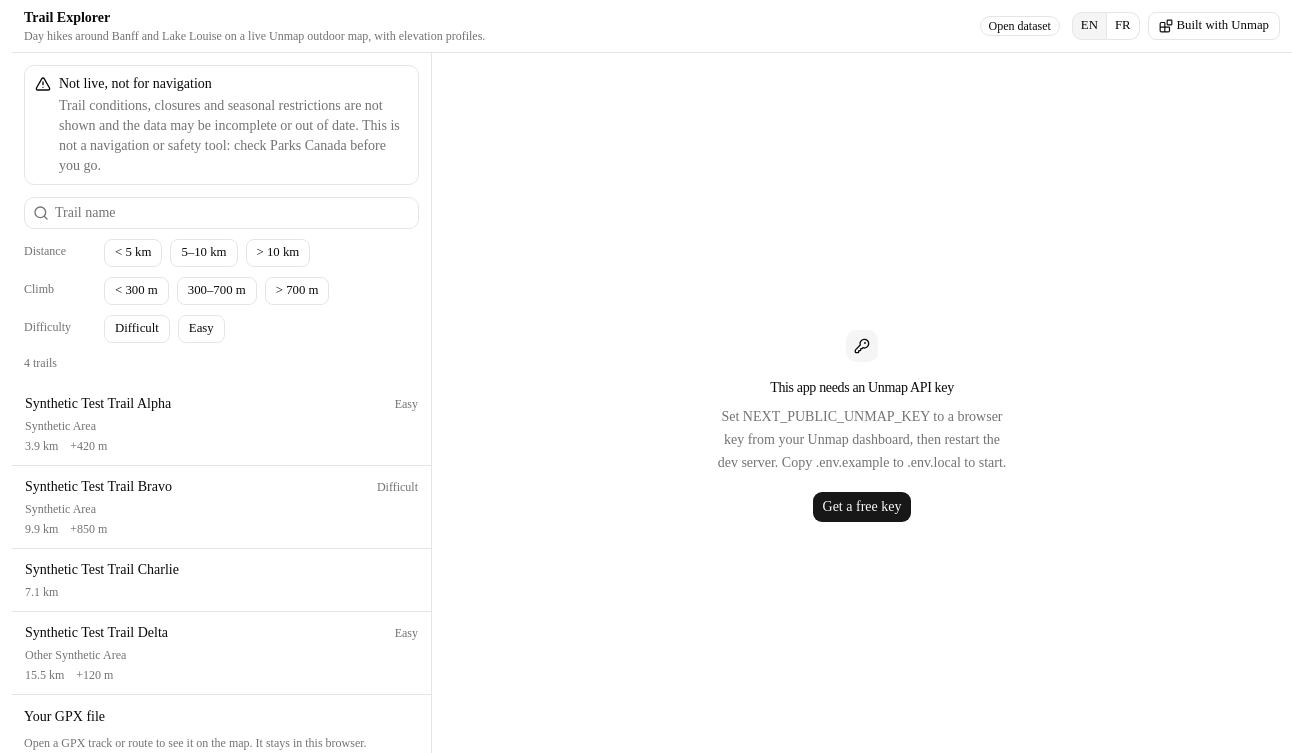
Test: Trails without a key › switches to French
The width and height of the screenshot is (1292, 753).
Expected: the list named "Trails" is shown, [12,383,431,694]
Click the button with aria-label "Français" at (1123, 26), box [1107,12,1140,40]
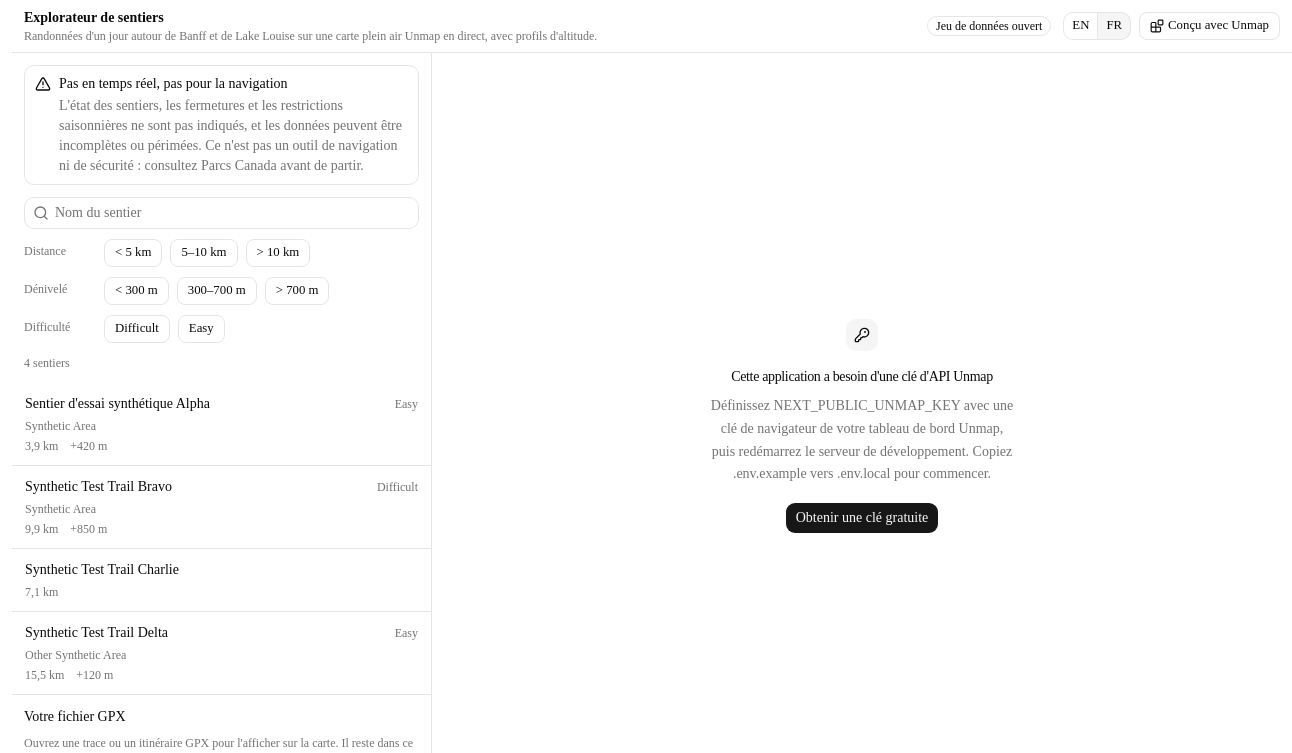
Result: the list named "Sentiers" is shown at [12,383,431,694]
Result: the text "Pas en temps réel, pas pour la navigation" is shown at [59,76,288,91]
Result: the text "Sentier d'essai synthétique Alpha" is shown at [25,396,210,411]
